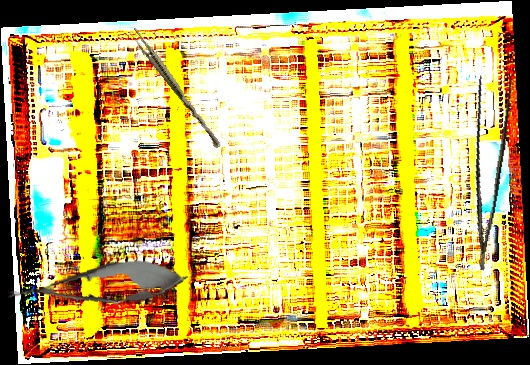Micro Scissor: (4, 253, 191, 317)
Tissue Forceps: (446, 66, 520, 271), (126, 26, 226, 150)
